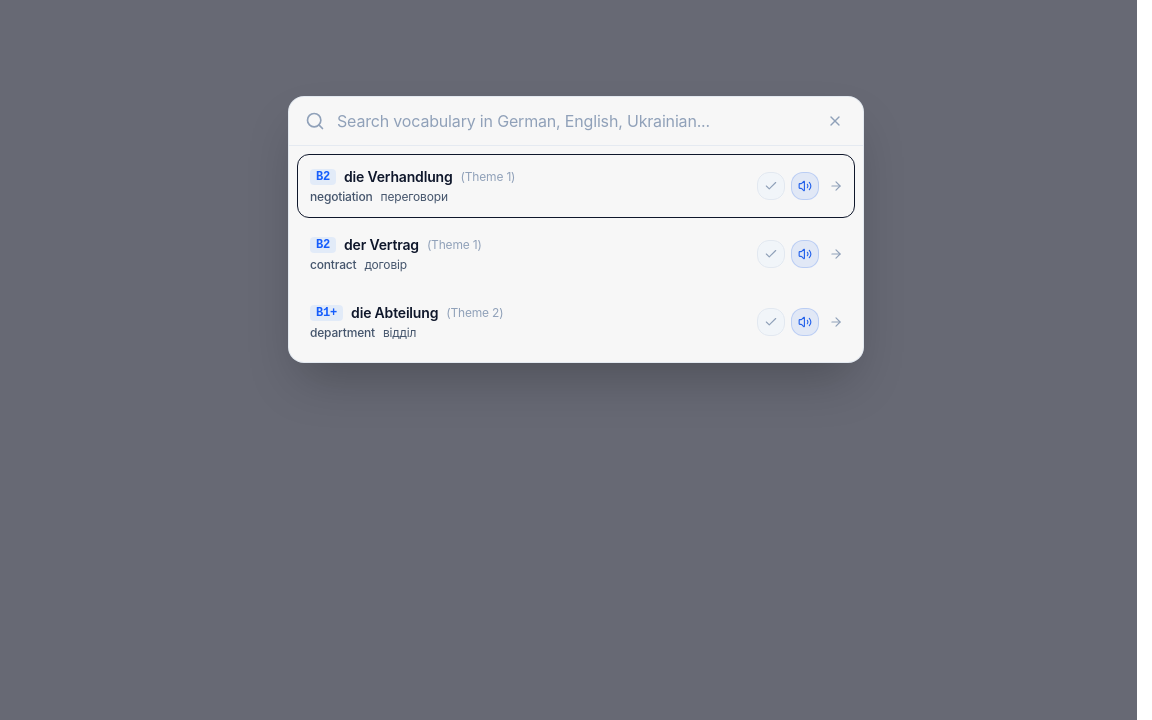
CommandPaletteModal.vue › shows an empty state and ignores Enter when nothing matches
Type "zzzzzz" into the dropdown with placeholder "Search vocabulary in German, English, Ukrainian..." at (580, 121), box [337,109,823,133]
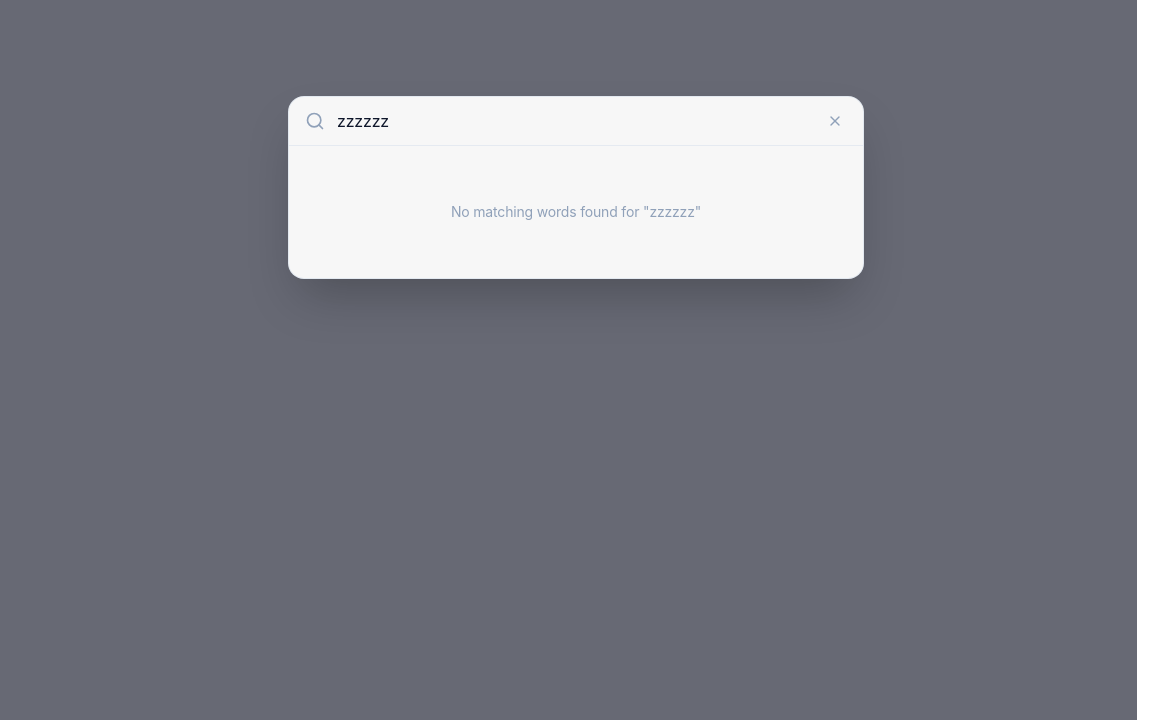
Now the text "No matching words found for \"zzzzzz\"" is shown, box [451,203,701,220]
